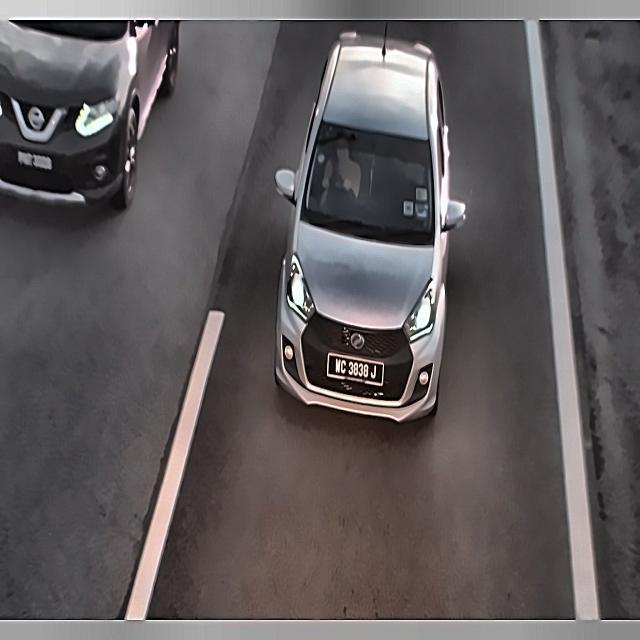car: (330, 349, 384, 390), (7, 141, 59, 176)
